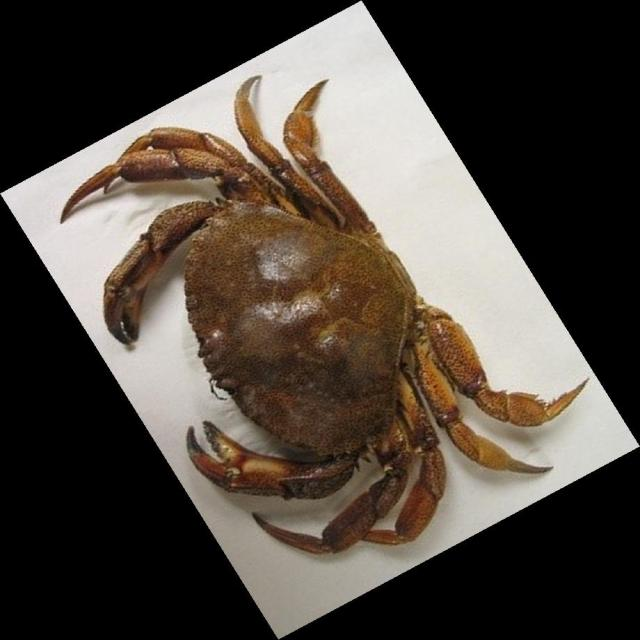Native Rock crab: (61, 75, 585, 554)
